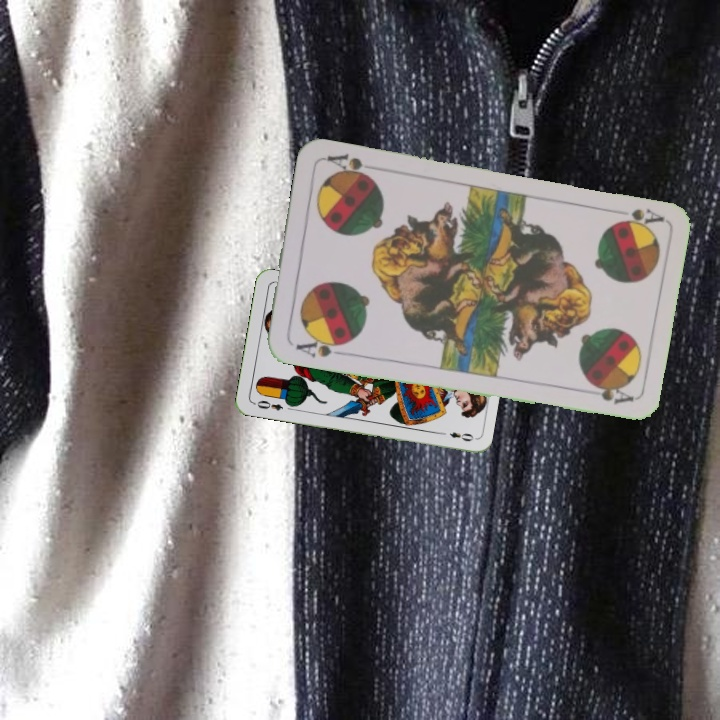EO: (250, 396, 286, 413)
SA: (291, 332, 349, 360), (610, 204, 666, 231)
